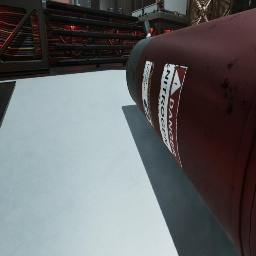NitrogenTank ,: (126, 8, 256, 256), (143, 20, 153, 39)
